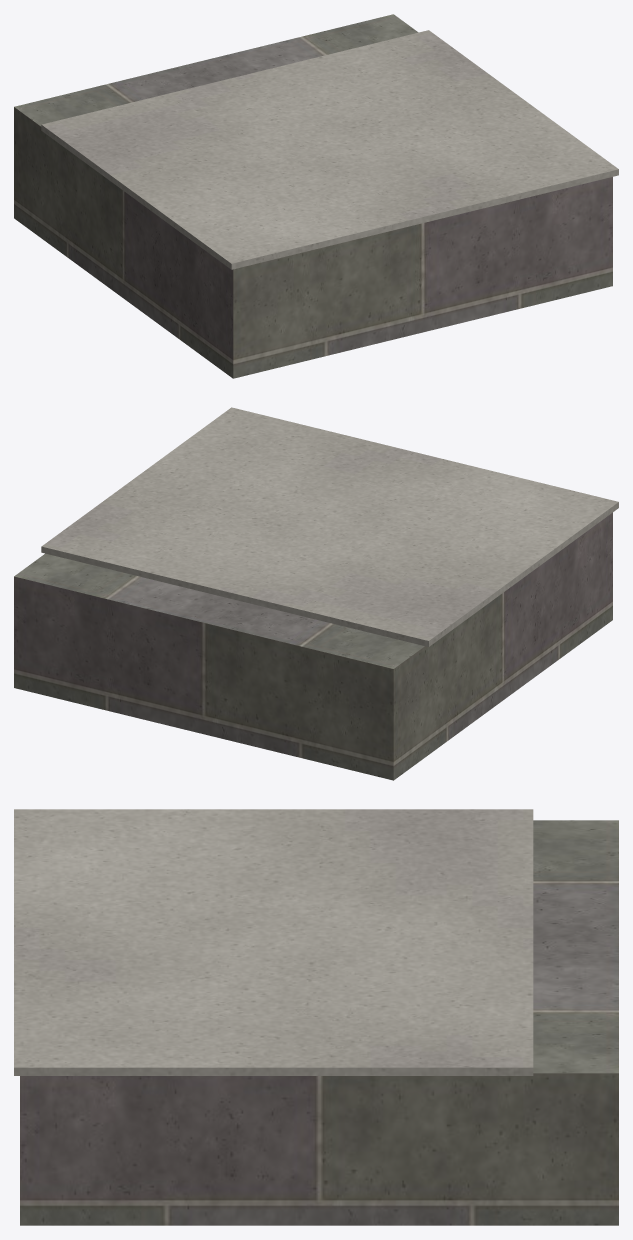
File: floor_concrete_g_e0010.glb
3 views of the same model, one above another, from view 1: azimuth 30°, elevation 25°; view 2: azimuth 150°, elevation 25°; view 3: azimuth 270°, elevation 25° (orthographic). The views are drawn at different scales.
Parts seen in each view (by area): view 1: floor_concrete_g_e0010_concrete, floor_concrete_g_e0010_plinth; view 2: floor_concrete_g_e0010_plinth, floor_concrete_g_e0010_concrete; view 3: floor_concrete_g_e0010_concrete, floor_concrete_g_e0010_plinth.
Part boxes in pixels (x1,y1,x2,y2): floor_concrete_g_e0010_concrete: [41, 30, 618, 269]; floor_concrete_g_e0010_plinth: [14, 14, 612, 378]; floor_concrete_g_e0010_plinth: [14, 512, 612, 780]; floor_concrete_g_e0010_concrete: [41, 407, 618, 646]; floor_concrete_g_e0010_concrete: [14, 809, 533, 1075]; floor_concrete_g_e0010_plinth: [20, 820, 618, 1225].
Bounding box in the file's own units: 2 × 0.58 × 1.98.
Materials: 2 (2 with a texture image).
